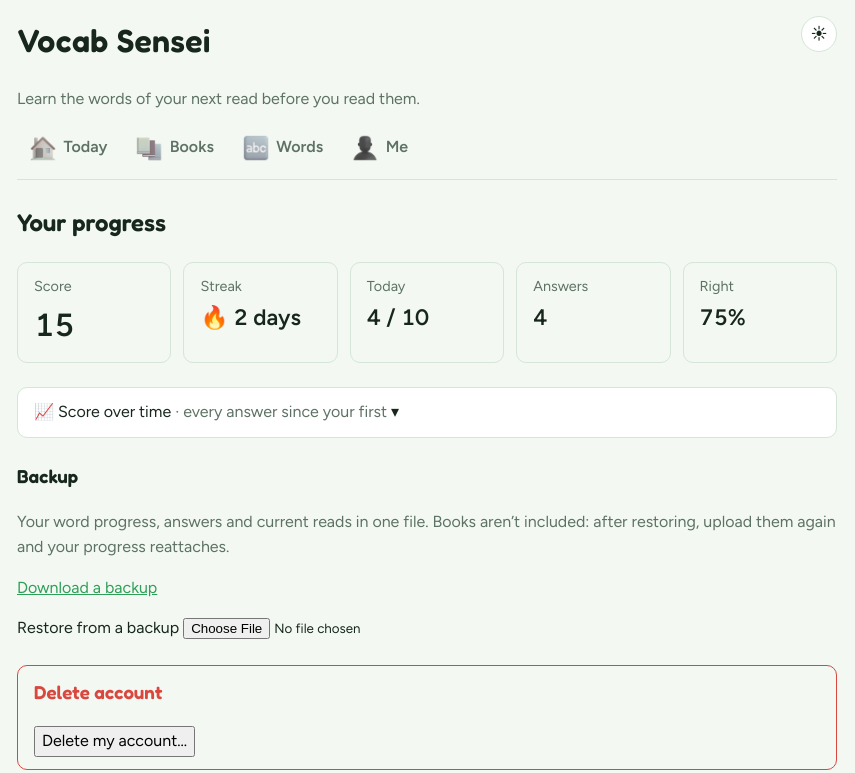
it: progress page › opens the score graph on click, with a table of the same numbers
Click the button "📈 Score over time · every answer since your first ▾".
click(105, 412)  # box top-left (17, 388), bottom-right (837, 438)
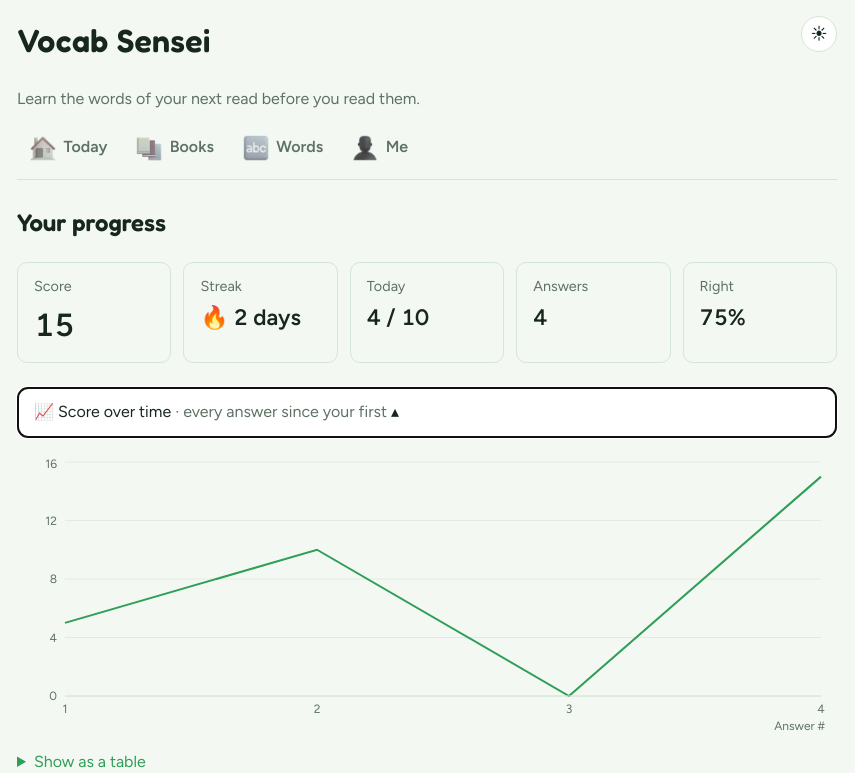
Check: the button "📈 Score over time · every answer since your first ▴" is expanded, box top-left (17, 388), bottom-right (837, 438)
Check: the picture named "Score after each of your 4 answers" is shown, box top-left (17, 454), bottom-right (837, 734)
